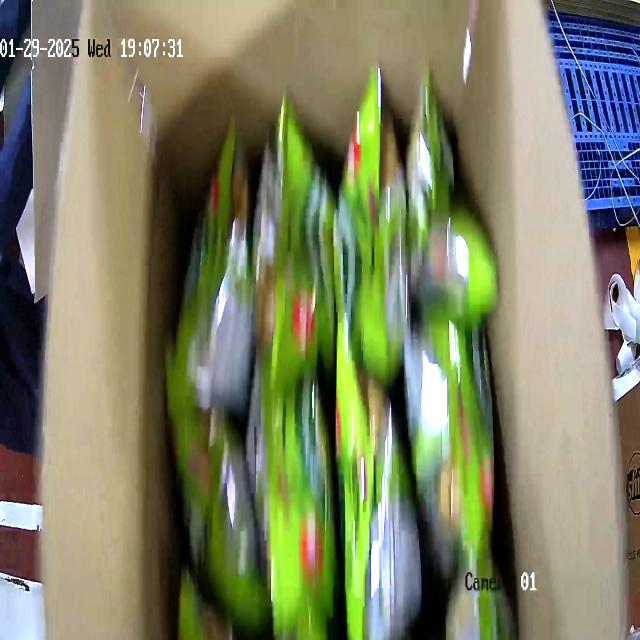YOGURT_HERB: (171, 63, 507, 637)
